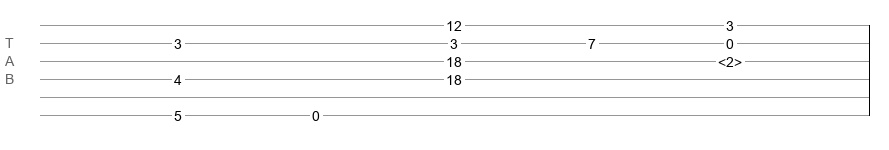0: (312, 108, 320, 118), (726, 36, 734, 46)
12: (446, 18, 462, 28)
18: (446, 72, 462, 82), (446, 54, 462, 64)
3: (174, 36, 182, 46), (450, 36, 458, 46), (726, 18, 734, 28)
4: (174, 72, 182, 82)
5: (174, 108, 182, 118)
7: (588, 36, 596, 46)
harmonic: (718, 54, 742, 64)
